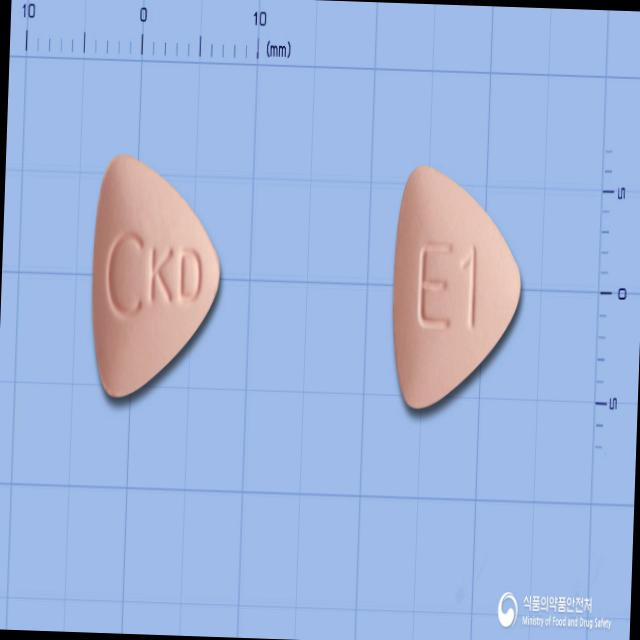Entecabell: (86, 149, 225, 403), (387, 162, 525, 414)
